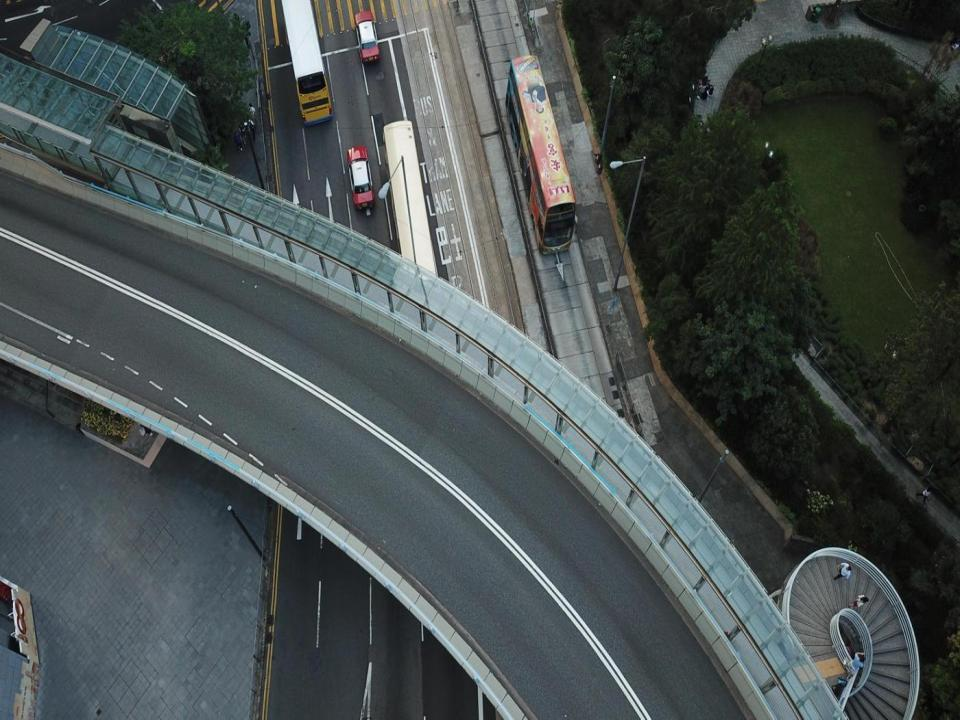bus: (506, 55, 576, 252), (382, 119, 440, 313), (280, 0, 333, 127)
car: (348, 147, 374, 210), (354, 9, 379, 64)
